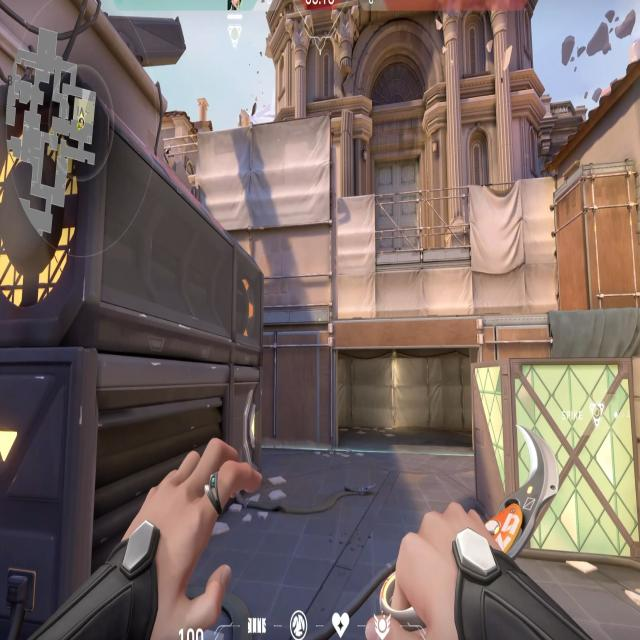A_Heaven_Box: (548, 160, 640, 310)
A_Heaven_Wall: (197, 115, 333, 325)
A_Hell: (327, 317, 485, 461)
